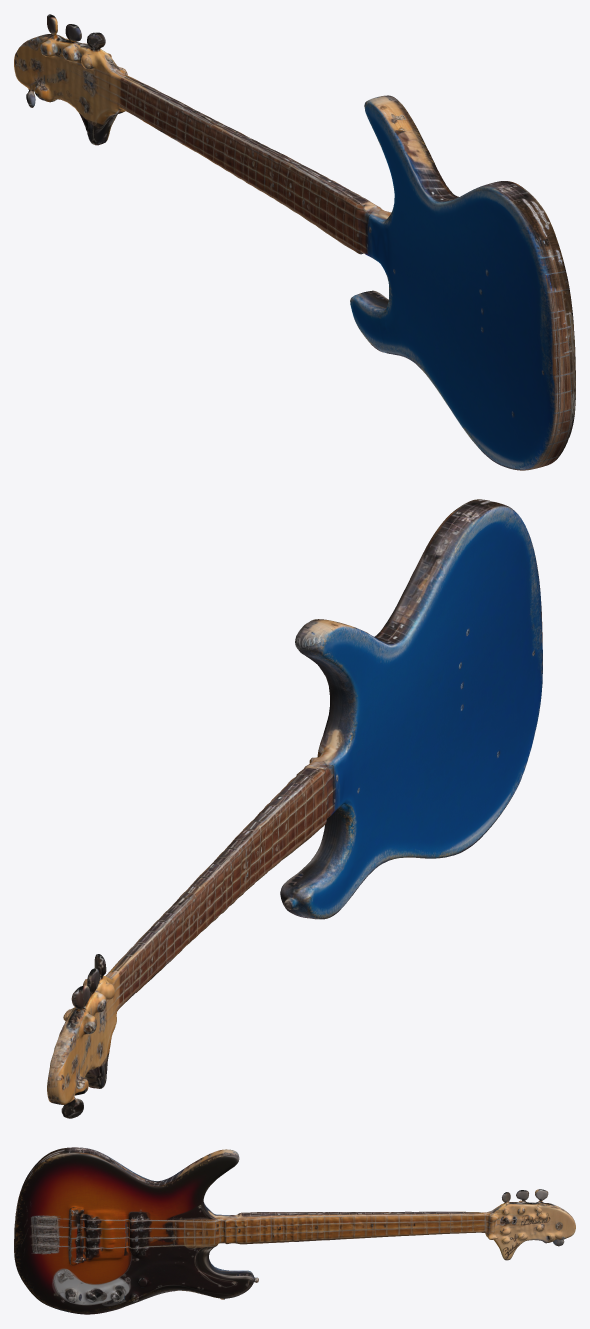
Rendered from bass.glb.
3 renders of one model, top to bottom at view 1: azimuth 30°, elevation 25°; view 2: azimuth 150°, elevation 25°; view 3: azimuth 270°, elevation 25°, orthographic. The views are drawn at different scales.
Size of the model in its own units: 0.2491 by 0.6397 by 2.
Materials: 1 (1 with a texture image).
